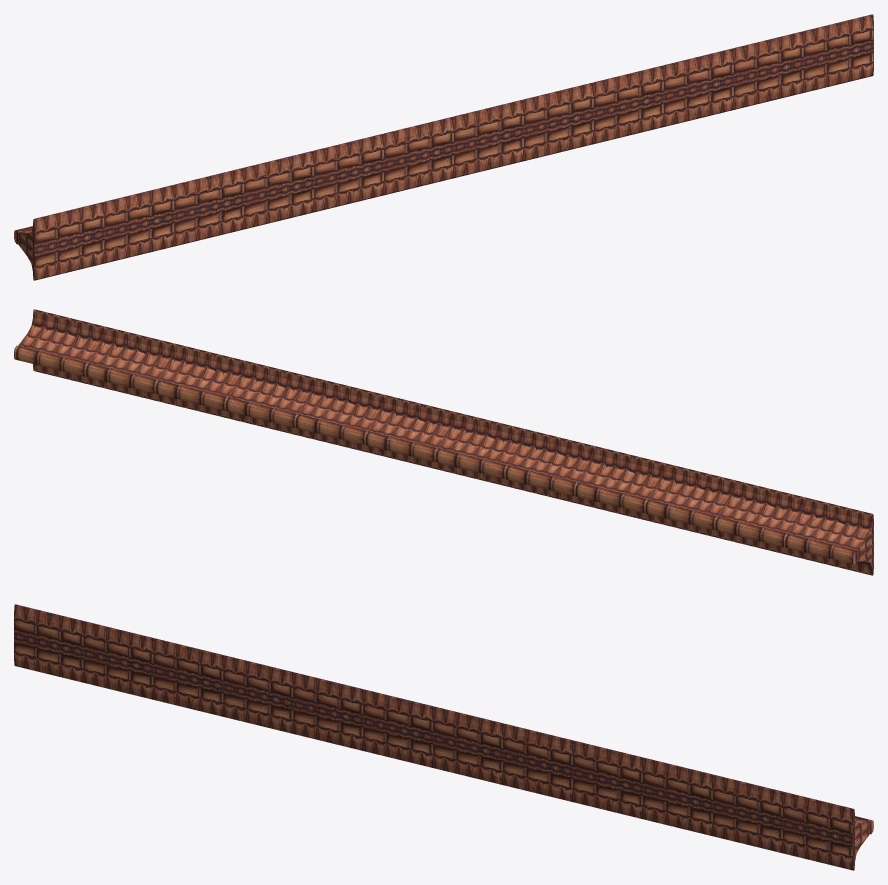
Rendered from roof.dae.
The picture shows the model from 3 angles, top to bottom: view 1: azimuth 30°, elevation 25°; view 2: azimuth 150°, elevation 25°; view 3: azimuth 330°, elevation 25°; orthographic projection.
Visible parts, largest first — view 1: Cube_038; view 2: Cube_038; view 3: Cube_038.
Boxes of the visible parts, x1=… form: Cube_038: x1=14, y1=14, x2=873, y2=280; Cube_038: x1=14, y1=309, x2=873, y2=575; Cube_038: x1=14, y1=604, x2=873, y2=870.
Bounding box in the file's own units: 8.4 × 0.3609 × 0.5919.
1 material, 1 textured.
